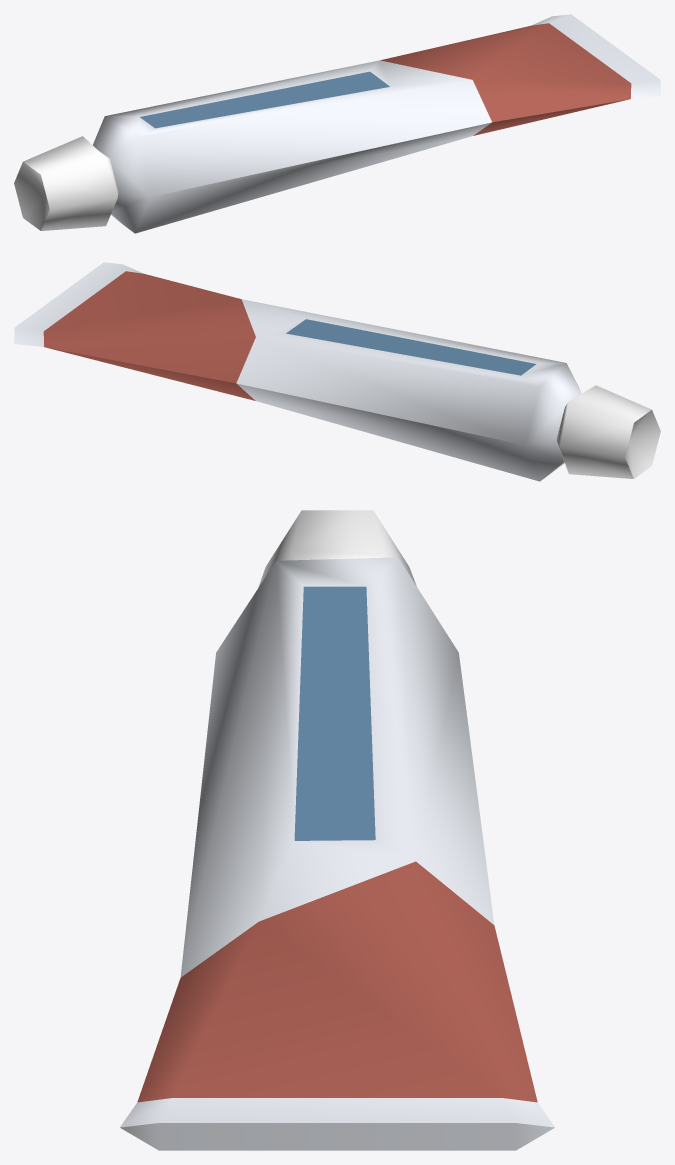
File: SM_Item_Toothpaste_01.obj
The picture shows the model from 3 angles, top to bottom: view 1: azimuth 30°, elevation 25°; view 2: azimuth 150°, elevation 25°; view 3: azimuth 270°, elevation 25°; orthographic projection. The views are drawn at different scales.
Visible parts, largest first — view 1: SM_Item_Toothpaste_01_Mat_SwatchOverlay_PolygonTown_01_Inst; view 2: SM_Item_Toothpaste_01_Mat_SwatchOverlay_PolygonTown_01_Inst; view 3: SM_Item_Toothpaste_01_Mat_SwatchOverlay_PolygonTown_01_Inst.
Part boxes in pixels (x1,y1,x2,y2): SM_Item_Toothpaste_01_Mat_SwatchOverlay_PolygonTown_01_Inst: (14, 14, 660, 233); SM_Item_Toothpaste_01_Mat_SwatchOverlay_PolygonTown_01_Inst: (14, 262, 660, 481); SM_Item_Toothpaste_01_Mat_SwatchOverlay_PolygonTown_01_Inst: (120, 510, 554, 1150).
Size of the model in its own units: 0.3634 by 0.0568 by 0.1174.
1 material, 1 textured.
